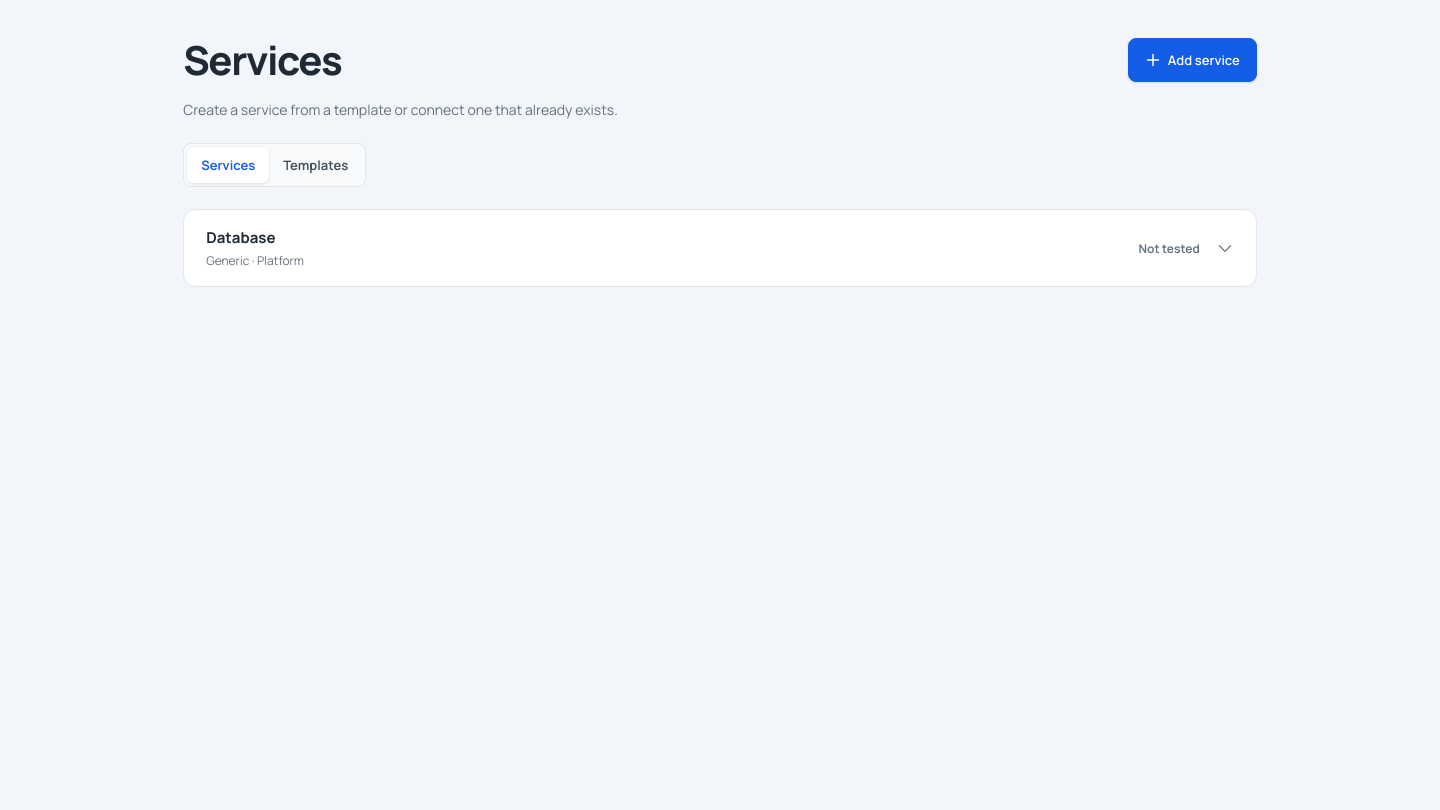
opens generated consumer bindings as repository managed read-only details
The image size is (1440, 810).
Click the text "Database". click: (241, 238)
box: [206, 227, 276, 248]
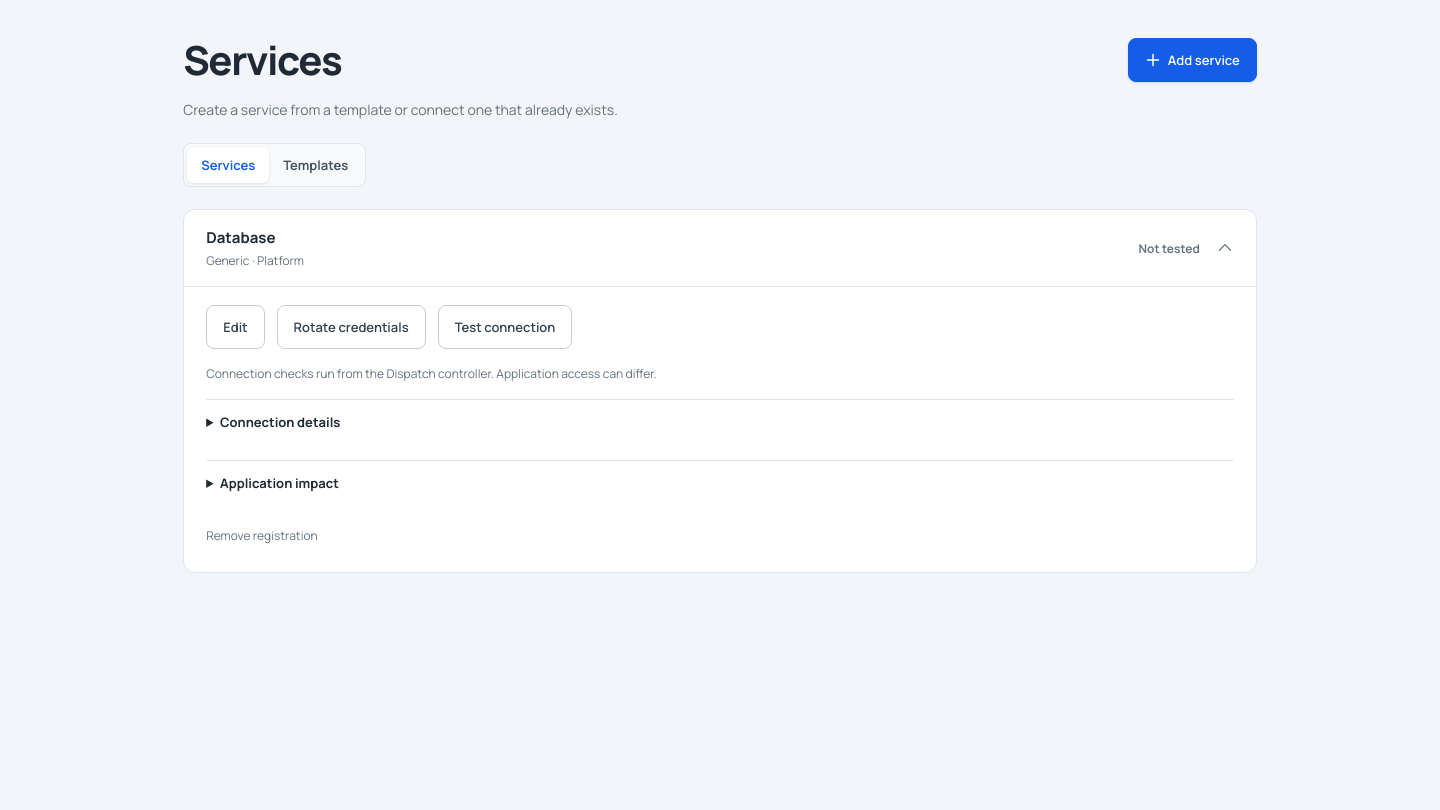
Click the heading "Application impact". click: (279, 483)
box: [220, 474, 339, 492]
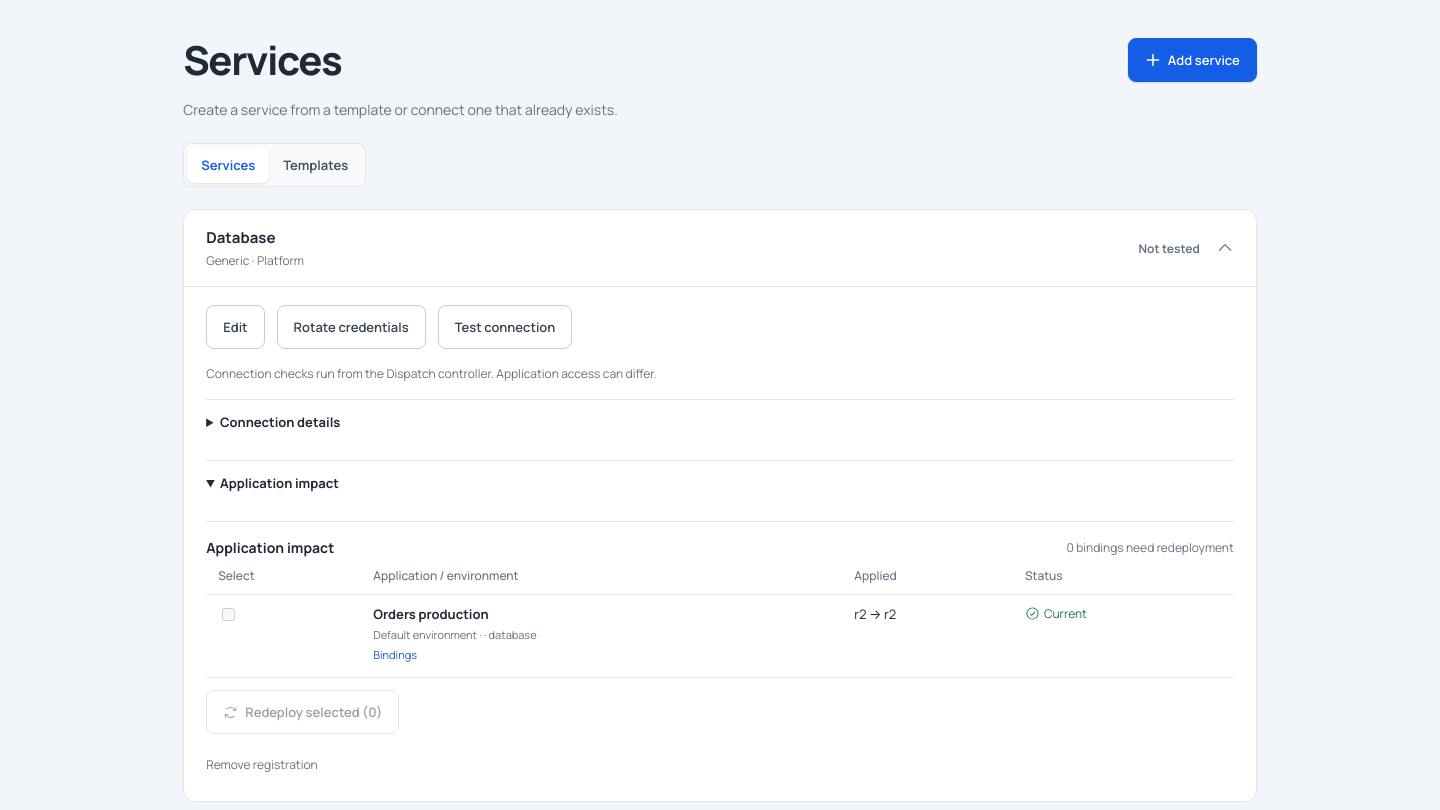
Click the button "Bindings". click: (395, 654)
box: [373, 647, 417, 662]
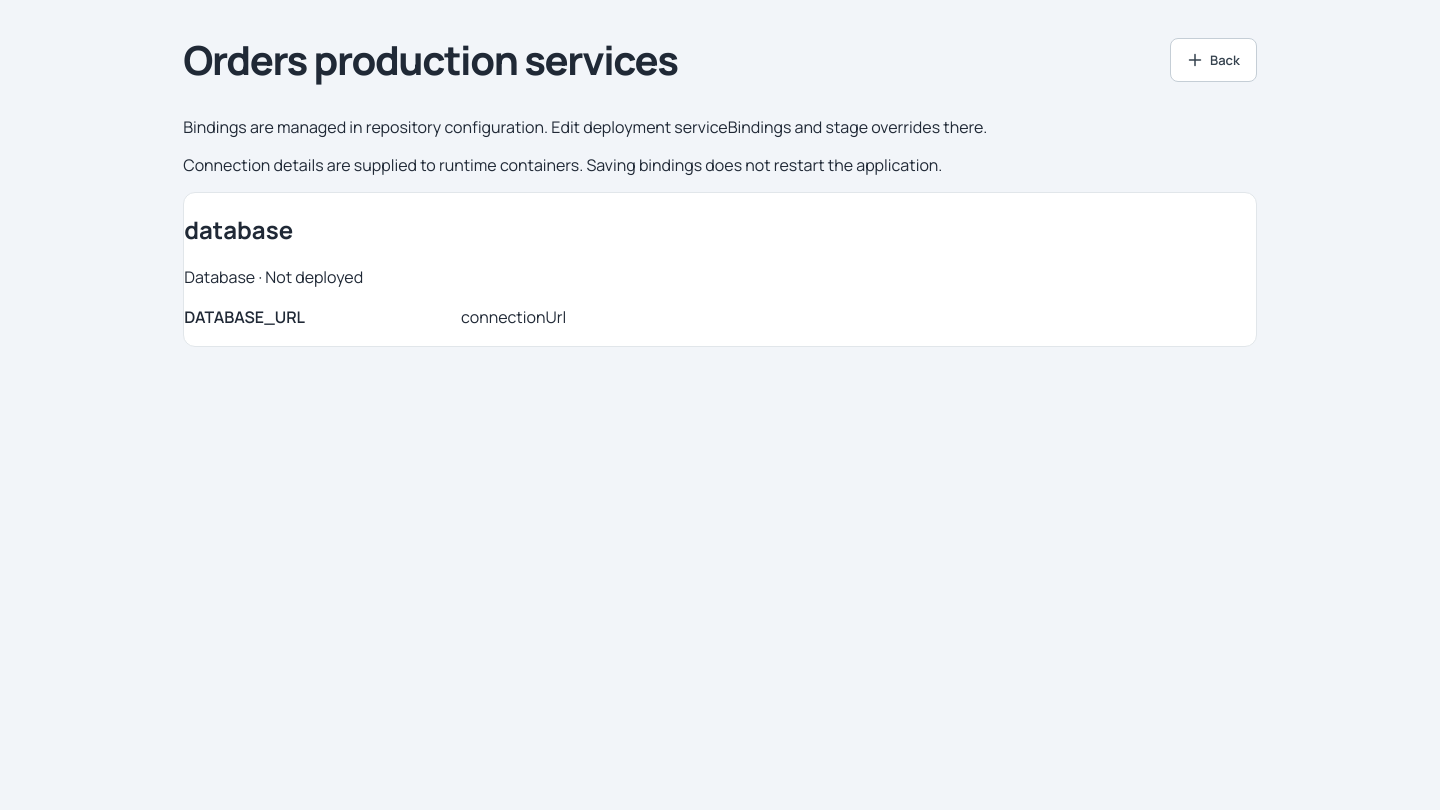
Result: the heading "Orders production services" is shown at [183, 36, 678, 84]
Result: the text "DATABASE_URL" is shown at [184, 306, 305, 328]
Result: the text "Bindings are managed in repository configuration" is shown at [183, 116, 987, 138]
